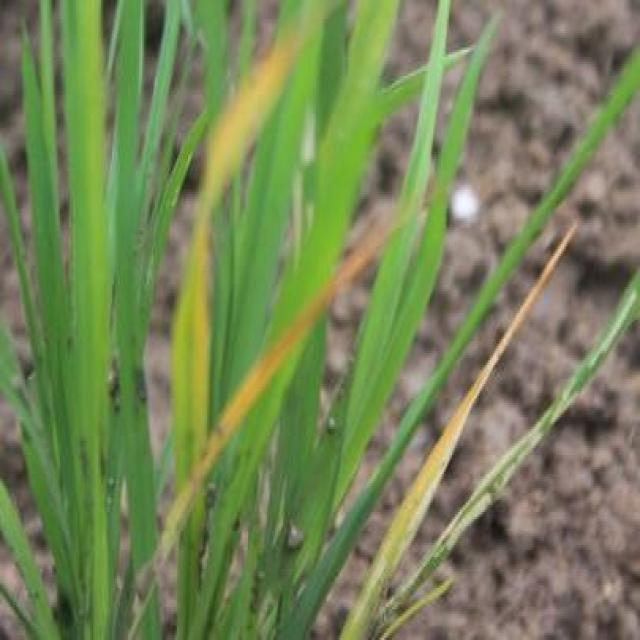Tungro: (164, 19, 358, 525), (365, 214, 577, 632)
